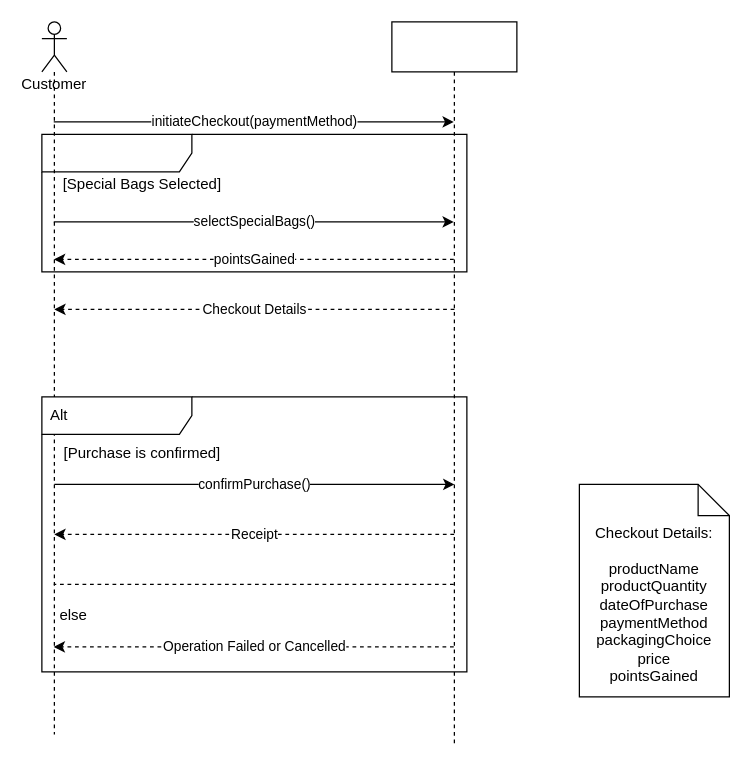
This 751x769 diagram has some shape labels left out. The box of each missing label's shape, as (x1, y1, x2, y2) in pixels:
:System: (391, 21, 517, 747)
Opt: (41, 133, 467, 272)
